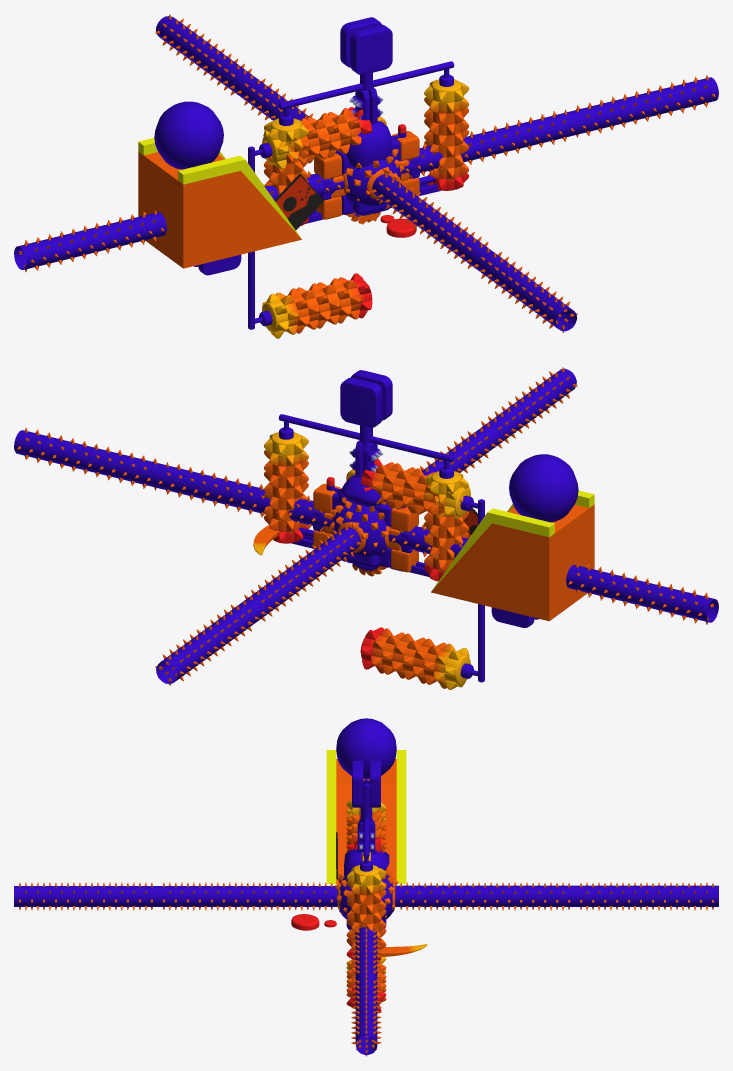
File: Obstacle.fbx
The picture shows the model from 3 angles, top to bottom: view 1: azimuth 30°, elevation 25°; view 2: azimuth 150°, elevation 25°; view 3: azimuth 270°, elevation 25°; orthographic projection. The views are drawn at different scales.
Parts seen in each view (by area): view 1: Base (×3), Slide, Thorn_R1 (×2), Thorn_R (×2), Ball (×2), Axis (×2), Base_R (×2), Notice_Board, Boxing, O15, Base_L, O70; view 2: Base (×3), Slide, Thorn_R (×2), Thorn_R1 (×2), Ball (×2), Axis (×2), Base_R (×2), O15, Boxing, Base_L, O70; view 3: Base (×3), Slide, Thorn_R1 (×2), Ball, Axis, Thorn_R, Boxing, O15.
Part boxes in pixels (x1,y1,x2,y2): Base (×3): (14, 14, 718, 332); Slide: (138, 138, 301, 268); Thorn_R1 (×2): (262, 79, 469, 190); Thorn_R (×2): (262, 118, 372, 338); Ball (×2): (154, 101, 404, 201); Axis (×2): (194, 17, 392, 275); Base_R (×2): (248, 83, 363, 329); Notice_Board: (274, 174, 323, 230); Boxing: (345, 121, 392, 169); O15: (345, 154, 400, 206); Base_L: (373, 61, 454, 87); O70: (314, 153, 341, 179); Base (×3): (14, 367, 718, 685); Slide: (431, 490, 594, 621); Thorn_R (×2): (360, 471, 470, 689); Thorn_R1 (×2): (264, 432, 470, 543); Ball (×2): (330, 454, 578, 554); Axis (×2): (340, 370, 538, 627); Base_R (×2): (369, 436, 484, 682); O15: (332, 505, 387, 559); Boxing: (338, 475, 386, 506); Base_L: (278, 414, 359, 439); O70: (391, 506, 418, 532); Base (×3): (14, 760, 718, 1056); Slide: (326, 750, 406, 883); Thorn_R1 (×2): (346, 807, 386, 960); Ball: (336, 718, 396, 778); Axis: (352, 760, 380, 822); Thorn_R: (346, 956, 386, 1011); Boxing: (344, 849, 389, 885); O15: (339, 875, 393, 919).
Bounding box in the file's own units: 7331 × 2918 × 7331.
